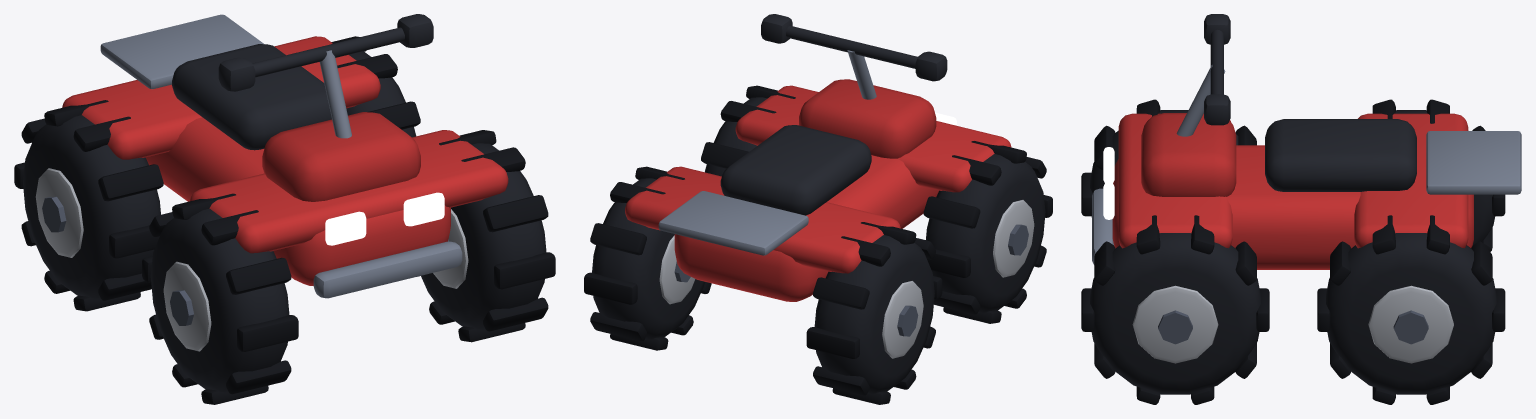
Rendered from v_quad.glb.
3 renders of one model, left to right at view 1: azimuth 30°, elevation 25°; view 2: azimuth 150°, elevation 25°; view 3: azimuth 270°, elevation 25°, orthographic. The views are drawn at different scales.
Visible parts, largest first — view 1: body, wheel_fl, wheel_bl, wheel_fr, wheel_br, lamp_glow; view 2: body, wheel_bl, wheel_fl, wheel_br, wheel_fr; view 3: body, wheel_fr, wheel_br, wheel_fl, wheel_bl, lamp_glow.
Part boxes in pixels (<box>): body: <box>62,14,508,298</box>; wheel_fl: <box>142,193,298,404</box>; wheel_bl: <box>14,100,163,311</box>; wheel_fr: <box>418,130,555,342</box>; wheel_br: <box>331,36,420,137</box>; lamp_glow: <box>325,192,444,245</box>; body: <box>625,14,1011,301</box>; wheel_bl: <box>806,222,942,404</box>; wheel_fl: <box>923,141,1052,323</box>; wheel_br: <box>584,166,711,350</box>; wheel_fr: <box>701,85,795,176</box>; body: <box>1092,14,1521,269</box>; wheel_fr: <box>1081,215,1269,404</box>; wheel_br: <box>1317,215,1505,404</box>; wheel_fl: <box>1081,99,1256,217</box>; wheel_bl: <box>1372,99,1505,251</box>; lamp_glow: <box>1103,147,1114,219</box>.
Bounding box in the file's own units: 1.9 × 1.61 × 2.32.
